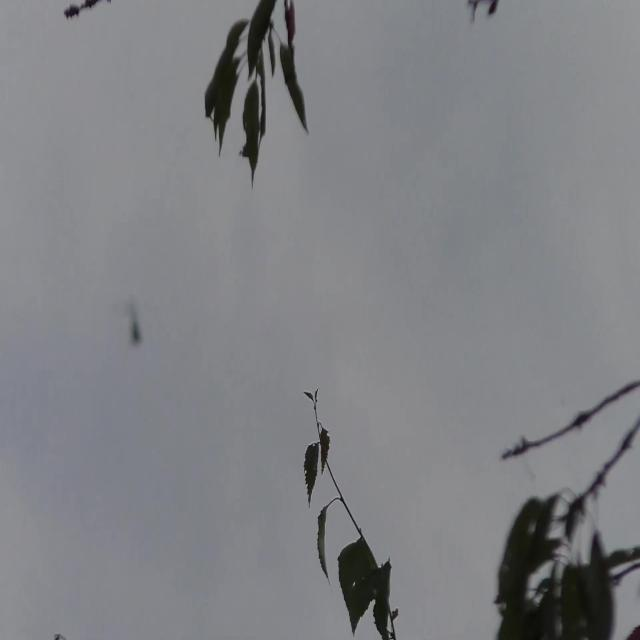CIV_HELO: (123, 296, 146, 351)
